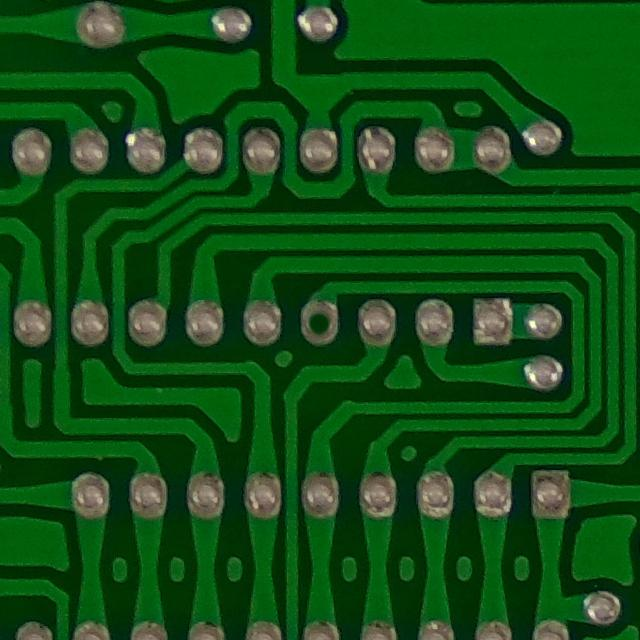missing_hole: (292, 291, 349, 357)
